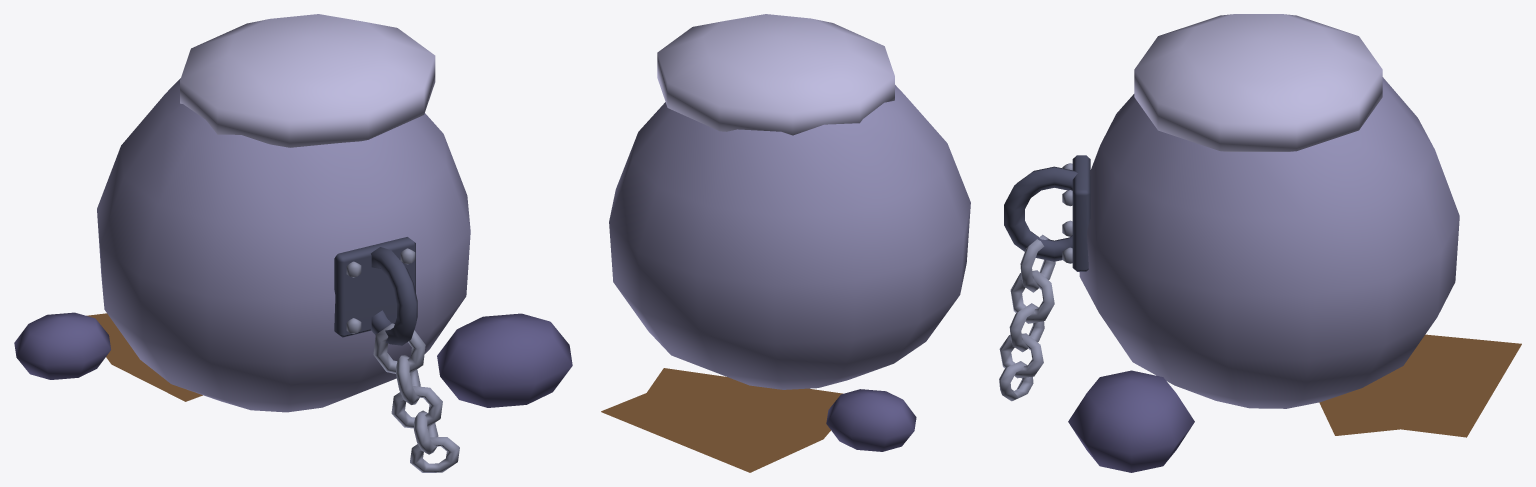
Rendered from drag_boulder.glb.
3 views of the same model, side by side, from view 1: azimuth 30°, elevation 25°; view 2: azimuth 150°, elevation 25°; view 3: azimuth 270°, elevation 25° (orthographic). The views are drawn at different scales.
Visible parts, largest first — view 1: Boulder; view 2: Boulder; view 3: Boulder.
Part boxes in pixels (bbox=[...]): Boulder: bbox=[14, 14, 572, 472]; Boulder: bbox=[601, 14, 970, 472]; Boulder: bbox=[999, 14, 1521, 472].
Size of the model in its own units: 1.09 by 0.8685 by 1.15.
